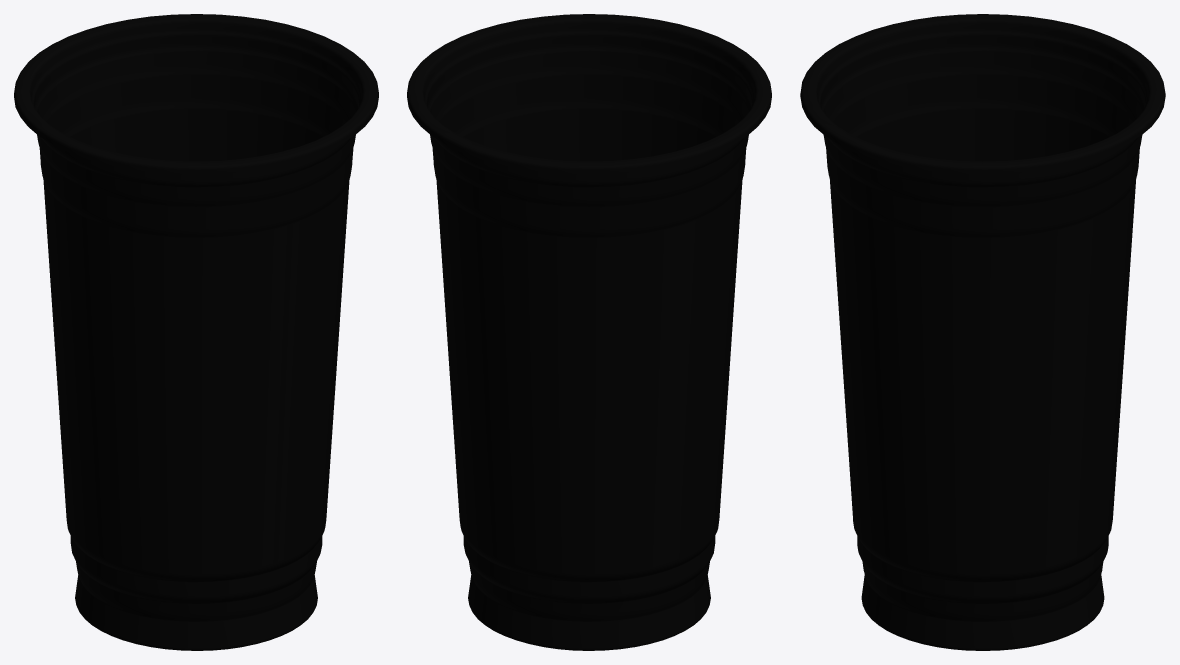
The picture shows the model from 3 angles, left to right: view 1: azimuth 30°, elevation 25°; view 2: azimuth 150°, elevation 25°; view 3: azimuth 270°, elevation 25°; orthographic projection.
Parts seen in each view (by area): view 1: models; view 2: models; view 3: models.
Boxes of the visible parts, <box> form: models: <box>14,14,378,650</box>; models: <box>407,14,771,650</box>; models: <box>800,14,1165,650</box>.
Bounding box in the file's own units: 0.092 × 0.1421 × 0.092.
Materials: 1 (1 with a texture image).
